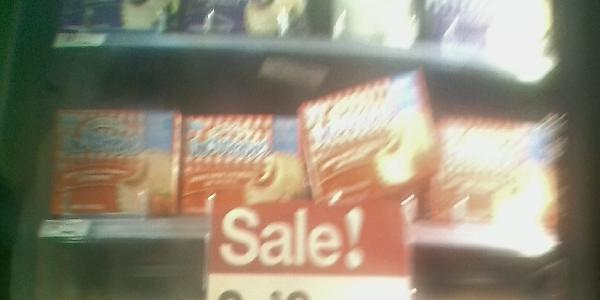icecream: (300, 68, 436, 232), (422, 111, 560, 237), (181, 110, 313, 221), (47, 105, 180, 215)
